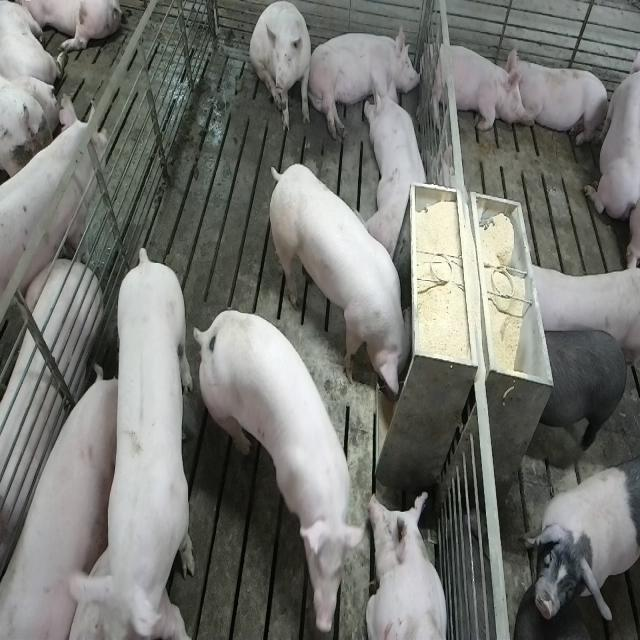Feeding: (272, 161, 421, 402)
Lateral_lying: (0, 369, 117, 640), (307, 22, 422, 142)
Sitting: (250, 2, 314, 134)
Standing: (197, 306, 371, 635), (73, 246, 197, 640), (0, 97, 104, 337), (524, 457, 638, 631), (532, 324, 630, 465), (520, 258, 638, 370)
Sternal_lying: (364, 490, 448, 640), (368, 74, 430, 258), (584, 35, 638, 225), (510, 51, 612, 150), (424, 36, 522, 134)
